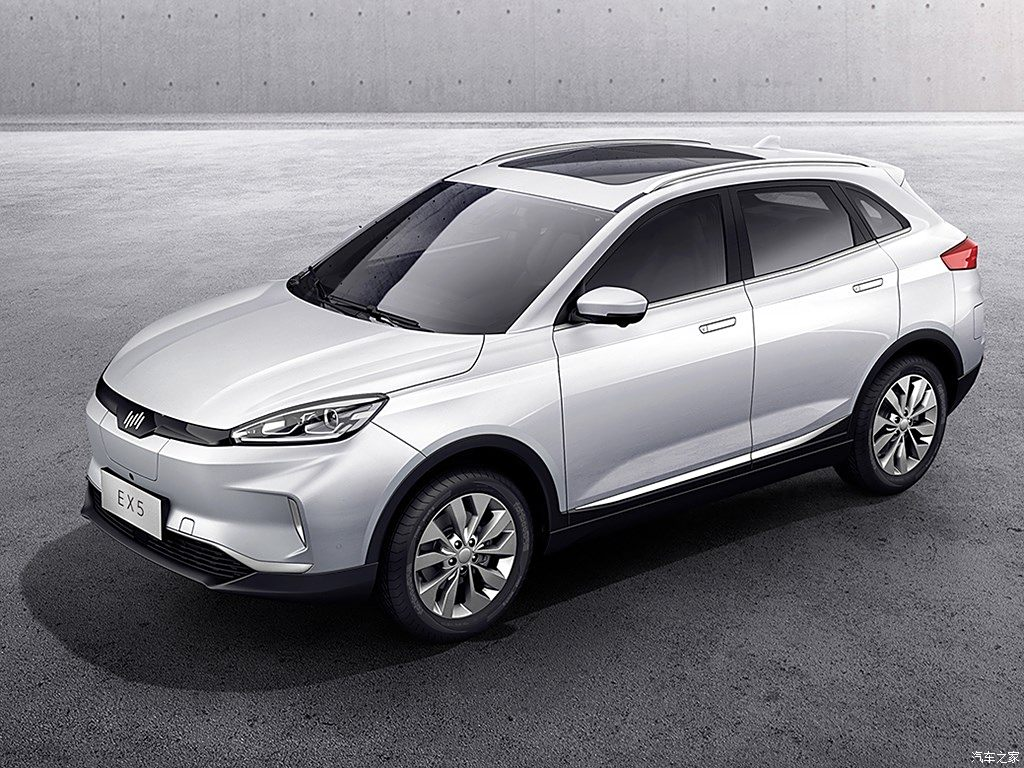WELTMEISTER: (124, 411, 145, 428)
